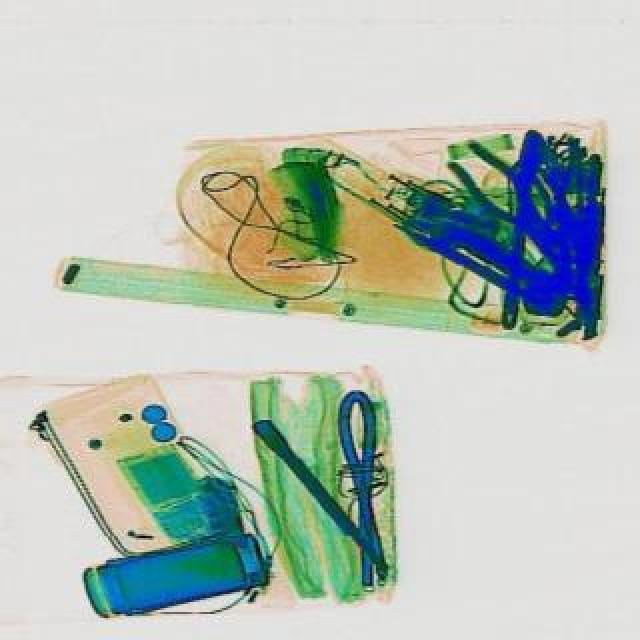scissors: (492, 126, 546, 330)
wrench: (438, 132, 582, 268)
